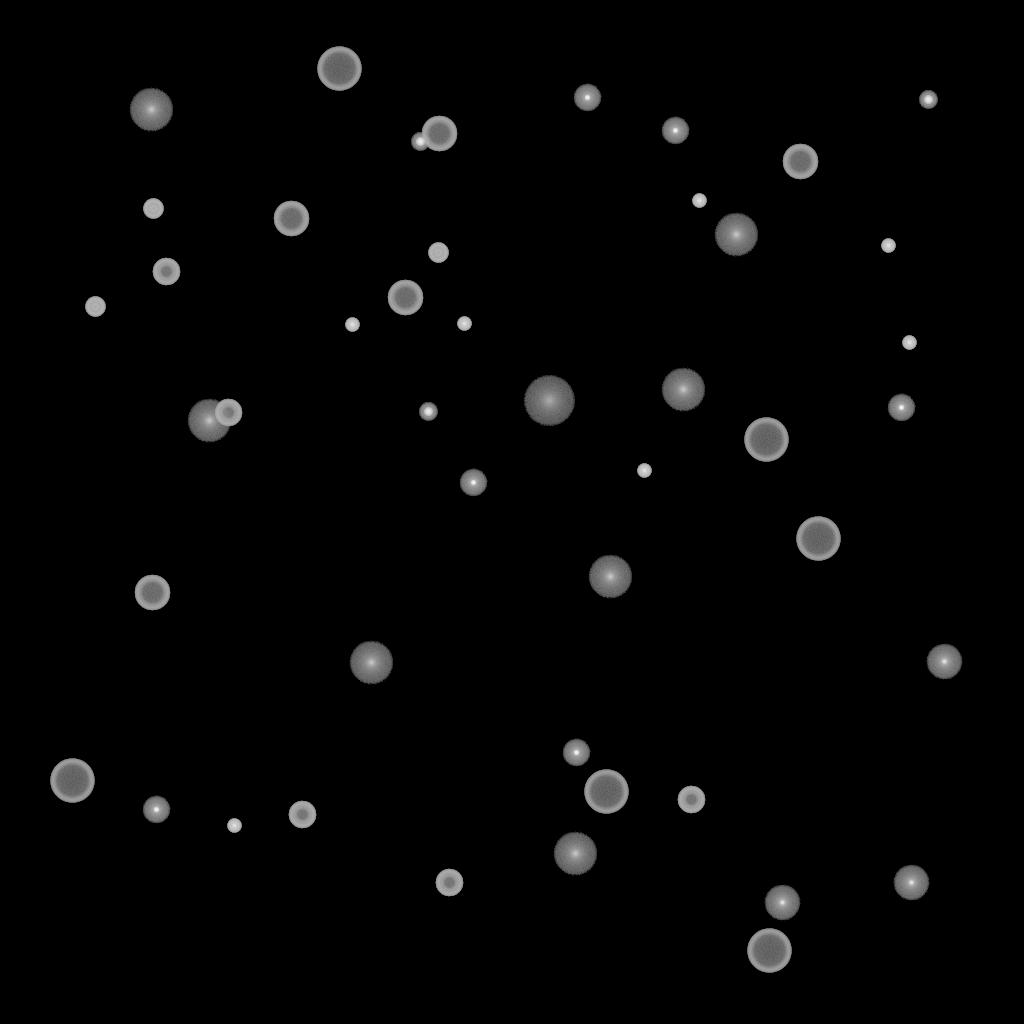depth:-10: (573, 84, 601, 112), (661, 117, 689, 145), (459, 469, 487, 497), (562, 739, 590, 767), (887, 394, 915, 422), (142, 796, 170, 824)
depth:-20: (419, 403, 437, 421), (411, 133, 429, 151), (919, 91, 937, 109)
depth:-30: (457, 317, 471, 331), (692, 194, 706, 208), (637, 464, 651, 478), (902, 336, 916, 350), (227, 819, 241, 833), (881, 239, 895, 253), (345, 318, 359, 332)
depth:-40: (85, 297, 105, 317), (143, 199, 163, 219), (428, 243, 448, 263)
depth:-50: (288, 801, 316, 829), (435, 869, 463, 897), (677, 786, 705, 814), (152, 258, 180, 286), (214, 399, 242, 427)
depth:-60: (782, 144, 818, 180), (387, 280, 423, 316), (134, 575, 170, 611), (421, 116, 457, 152), (273, 201, 309, 237)
depth:-70: (584, 770, 628, 814), (796, 517, 840, 561), (50, 759, 94, 803), (747, 929, 791, 973), (317, 47, 361, 91), (744, 418, 788, 462)
depth:0: (893, 865, 929, 901), (764, 885, 800, 921), (926, 644, 962, 680)
depth:10: (553, 832, 597, 876), (661, 368, 705, 412), (187, 399, 231, 443), (349, 641, 393, 685), (588, 555, 632, 599), (129, 88, 173, 132), (714, 213, 758, 257)
depth:20: (523, 376, 575, 426)
